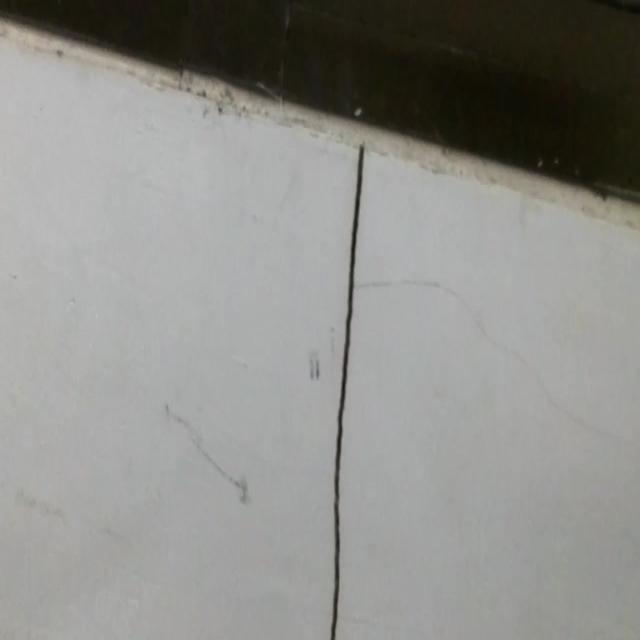Crack: (308, 122, 390, 640), (366, 219, 578, 378)
